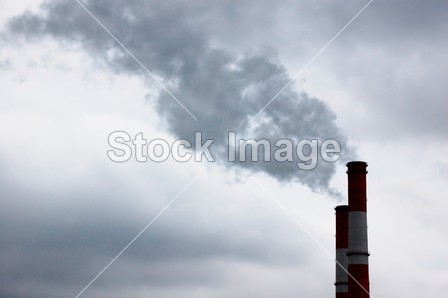dust: (199, 73, 370, 203)
